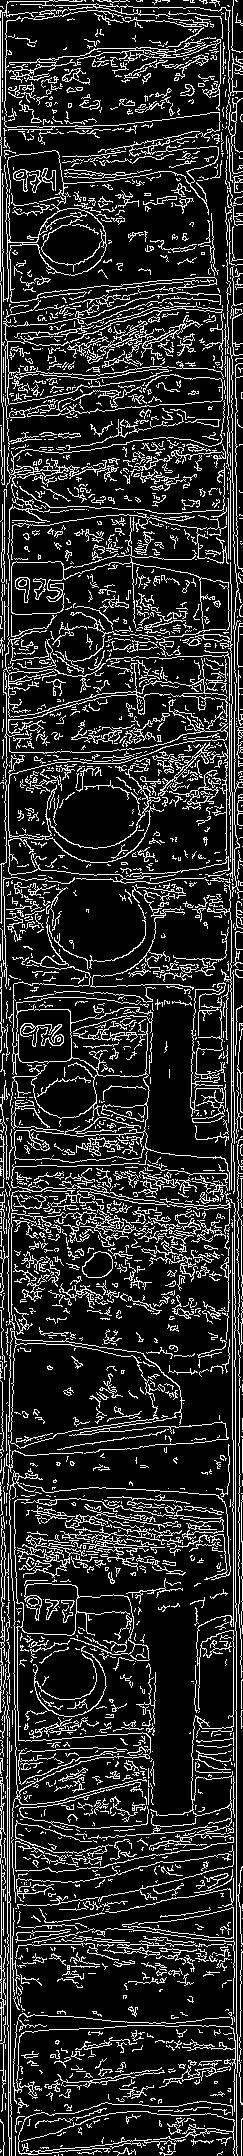hplug: (25, 1055, 107, 1134), (32, 203, 119, 275), (27, 1644, 108, 1719), (40, 606, 118, 681)
scal: (40, 870, 161, 978), (43, 760, 151, 868)
vplug: (119, 507, 216, 720), (135, 1628, 211, 1837), (136, 972, 214, 1176)
